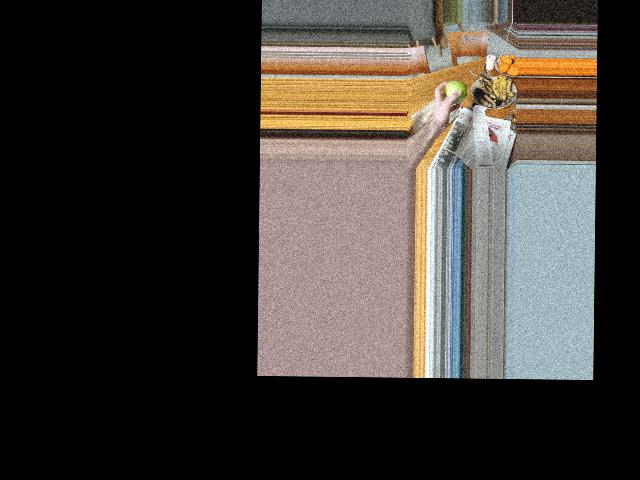apple: (445, 80, 467, 103)
